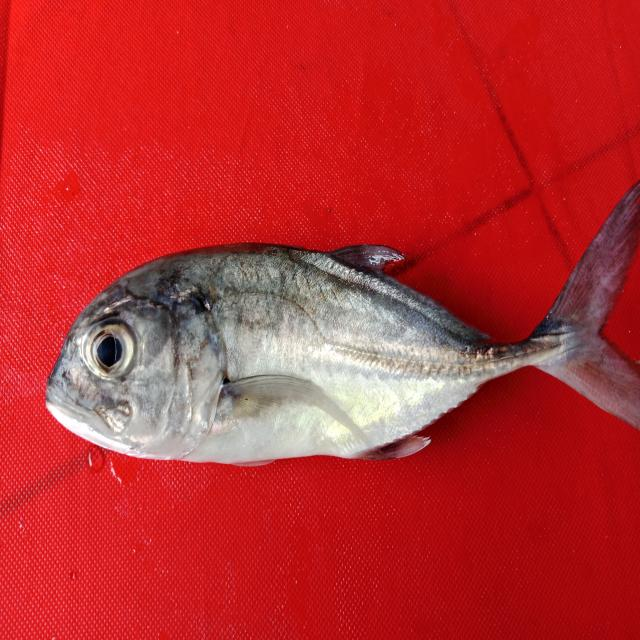ikan: (20, 187, 635, 479)
